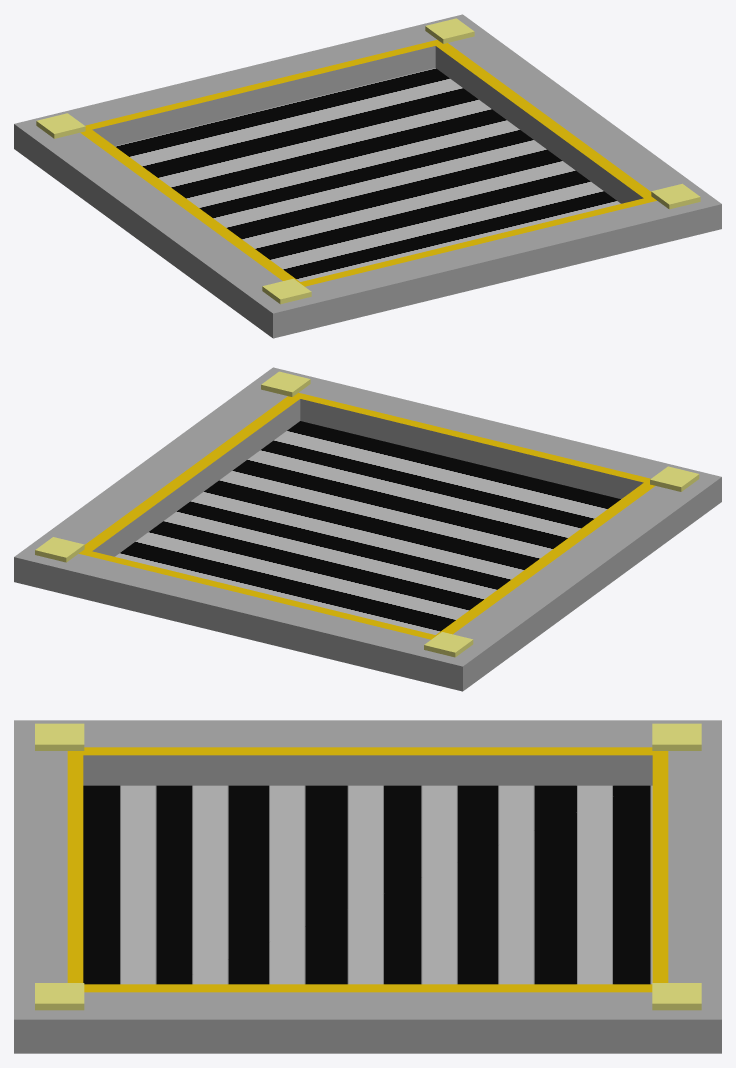
The model's file is _rille 1.fbx.
3 renders of one model, top to bottom at view 1: azimuth 30°, elevation 25°; view 2: azimuth 150°, elevation 25°; view 3: azimuth 270°, elevation 25°, orthographic. The views are drawn at different scales.
Visible parts, largest first — view 1: grille1; view 2: grille1; view 3: grille1.
Boxes of the visible parts, x1=… form: grille1: x1=14, y1=14, x2=721, y2=338; grille1: x1=14, y1=367, x2=721, y2=691; grille1: x1=14, y1=720, x2=721, y2=1053.
Bounding box in the file's own units: 1 × 0.0636 × 1.
4 materials, 1 textured.
